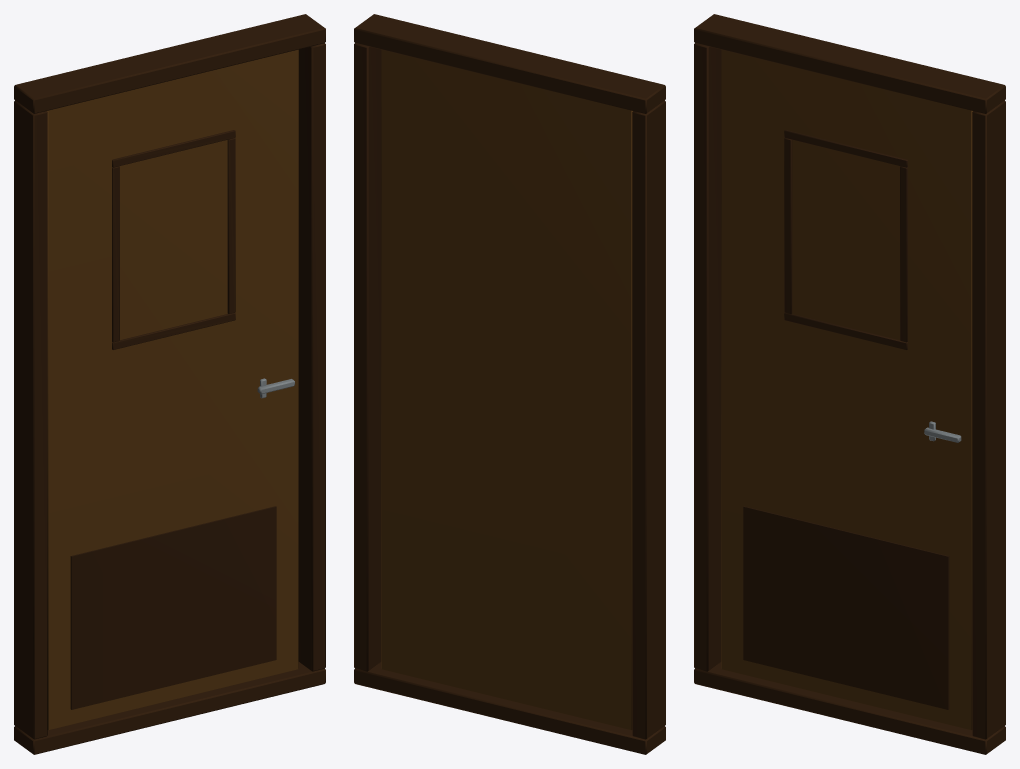
File: school-door-classroom.glb
The picture shows the model from 3 angles, left to right: view 1: azimuth 30°, elevation 25°; view 2: azimuth 150°, elevation 25°; view 3: azimuth 330°, elevation 25°; orthographic projection.
Parts seen in each view (by area): view 1: door__wood, frame__wood; view 2: door__wood, frame__wood; view 3: door__wood, frame__wood.
Boxes of the visible parts, <box> form: door__wood: <box>47,49,298,729</box>; frame__wood: <box>14,14,325,754</box>; door__wood: <box>381,49,632,729</box>; frame__wood: <box>354,14,665,754</box>; door__wood: <box>721,49,972,729</box>; frame__wood: <box>694,14,1005,754</box>.
Bounding box in the file's own units: 1 × 2.14 × 0.12.
